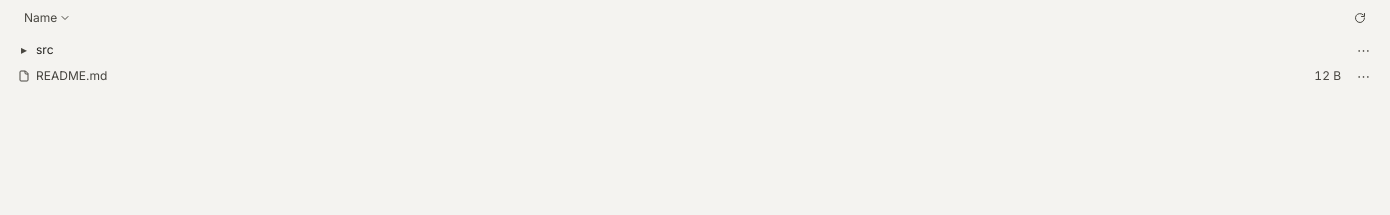
Test: FilesFileActions › duplicates a row without confirmation and shows the copy once the parent is re-read
Step 1. Click the 2nd button with class "workspace-tree-menu-trigger" → (1364, 76), box left=1349, top=64, right=1378, bottom=88
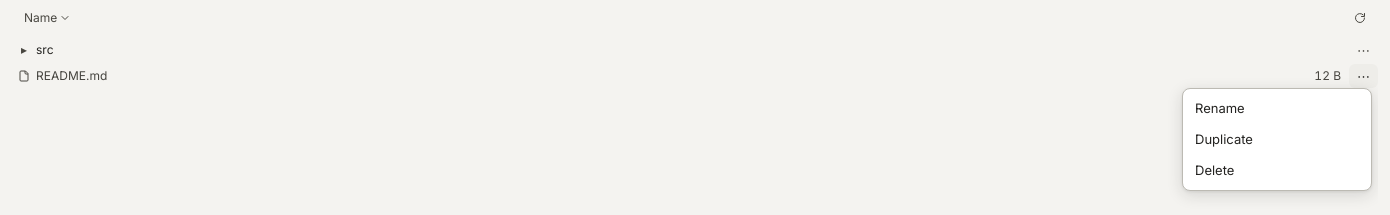
Step 2. Click the menu item "Duplicate" → (1277, 139), box left=1187, top=124, right=1367, bottom=155
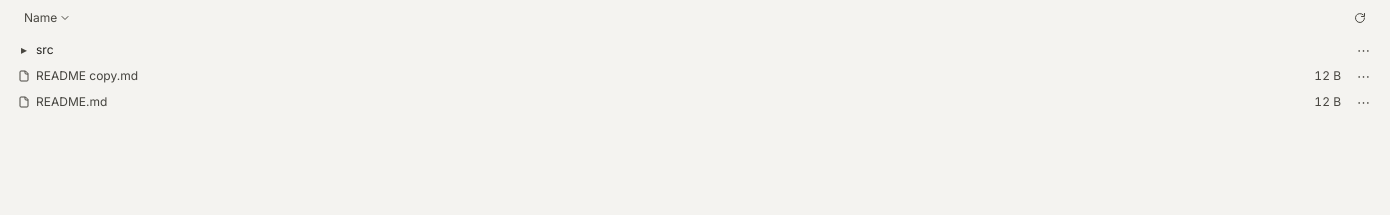
Result: the text "README copy.md" is shown at left=36, top=67, right=138, bottom=85
